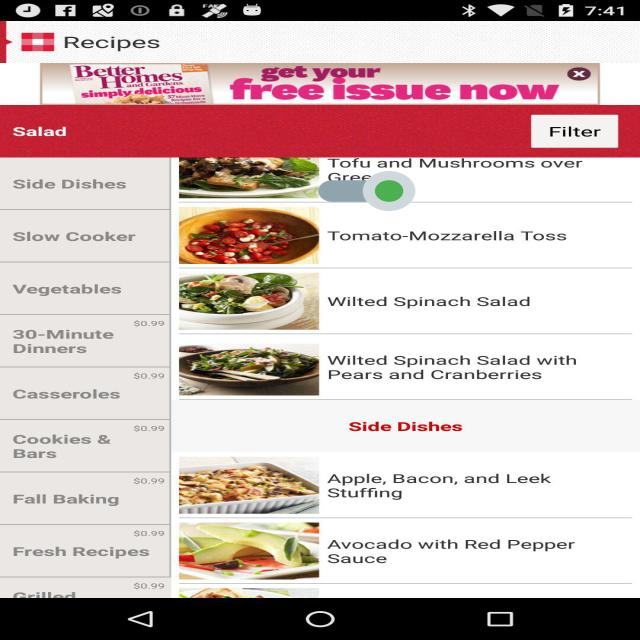social proof: (318, 154, 416, 228)
